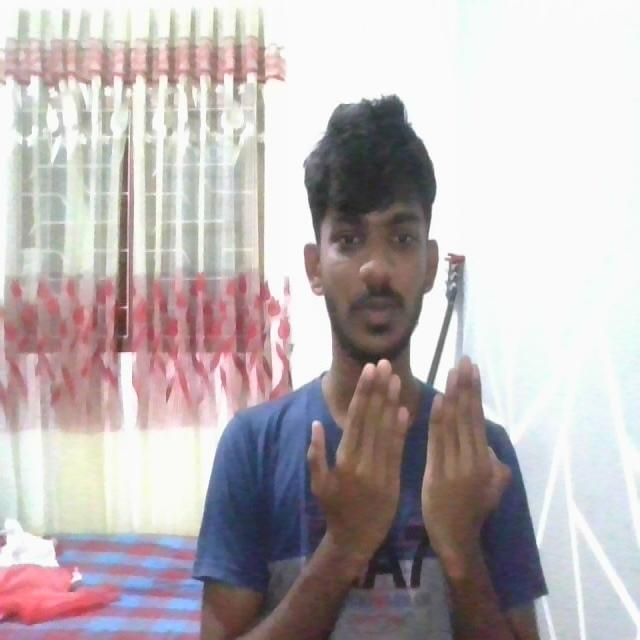ThankYou: (203, 344, 563, 640)
